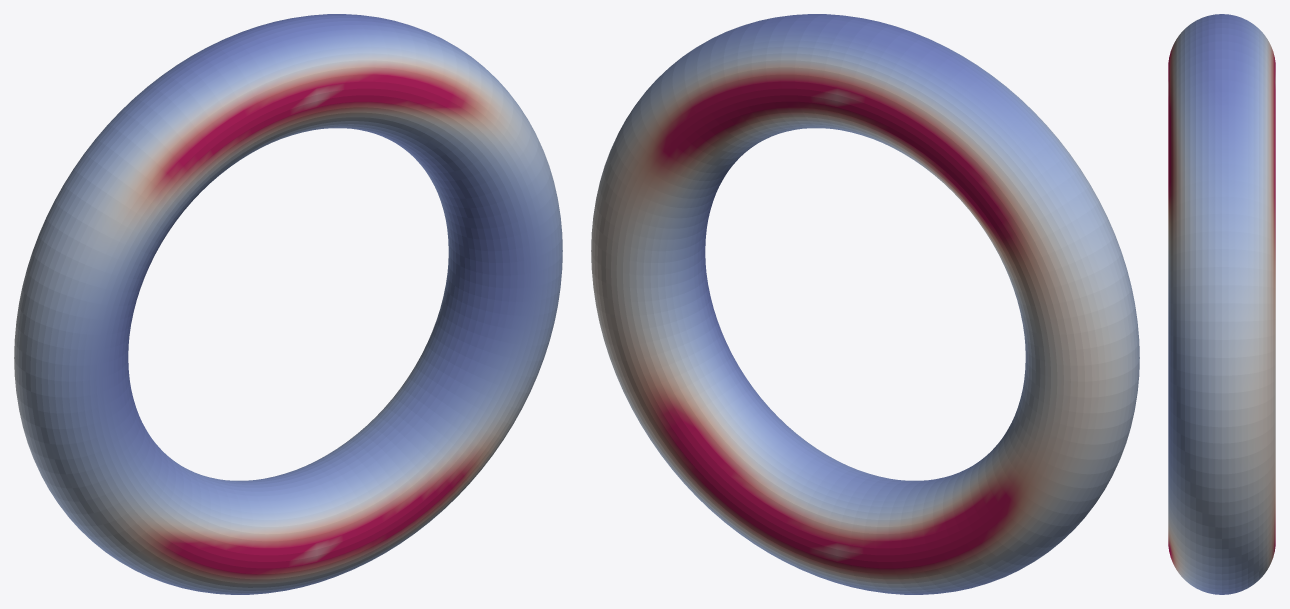
The picture shows the model from 3 angles, left to right: view 1: azimuth 30°, elevation 25°; view 2: azimuth 150°, elevation 25°; view 3: azimuth 270°, elevation 25°; orthographic projection. The views are drawn at different scales.
Visible parts, largest first — view 1: world; view 2: world; view 3: world.
Part boxes in pixels (x1,y1,x2,y2): world: (14,14,562,594); world: (591,14,1139,594); world: (1168,14,1275,594).
Bounding box in the file's own units: 23.73 × 23.73 × 4.39.
